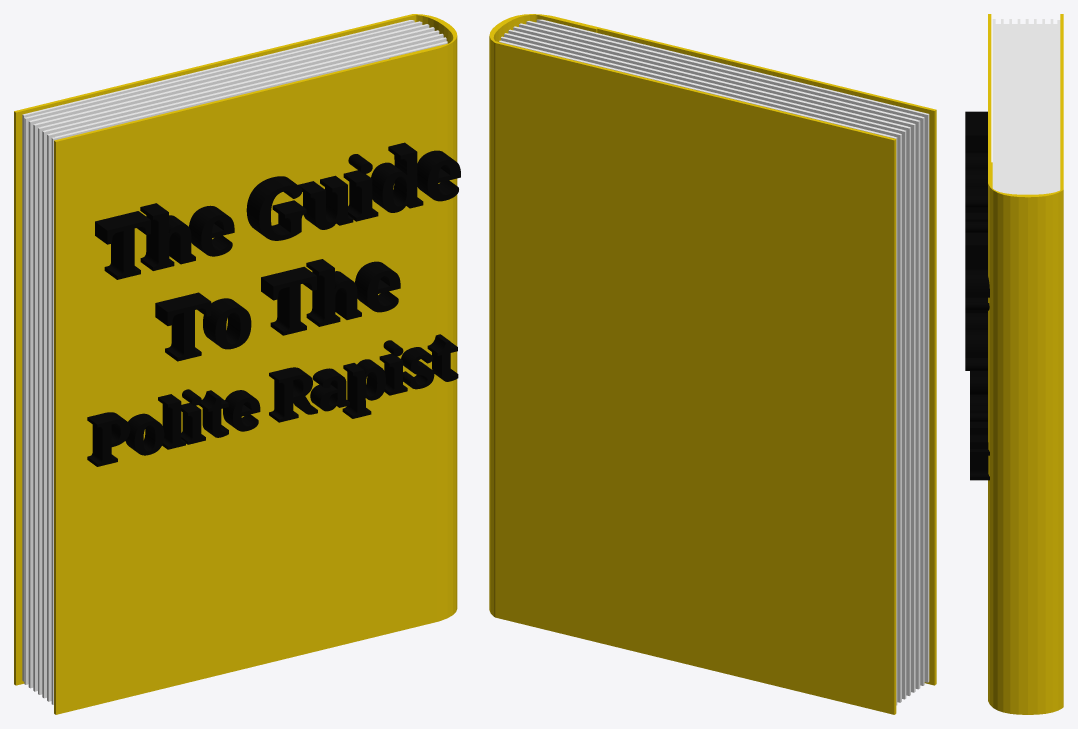
File: pasta_basta.glb
The picture shows the model from 3 angles, left to right: view 1: azimuth 30°, elevation 25°; view 2: azimuth 150°, elevation 25°; view 3: azimuth 270°, elevation 25°; orthographic projection. The views are drawn at different scales.
Visible parts, largest first — view 1: obj_4, obj_0, obj_1, obj_3, obj_2; view 2: obj_4, obj_0; view 3: obj_4, obj_0, obj_1, obj_3, obj_2.
Boxes of the visible parts, x1,y1,x2,y2 form: obj_4: [14, 14, 457, 714]; obj_0: [22, 20, 447, 704]; obj_1: [95, 142, 460, 279]; obj_3: [87, 334, 458, 466]; obj_2: [155, 259, 400, 361]; obj_4: [489, 14, 936, 714]; obj_0: [499, 19, 929, 705]; obj_4: [988, 14, 1063, 714]; obj_0: [992, 19, 1060, 194]; obj_1: [965, 111, 989, 310]; obj_3: [970, 371, 989, 480]; obj_2: [965, 310, 987, 370].
Bounding box in the file's own units: 31.5 × 41.5 × 7.14.
